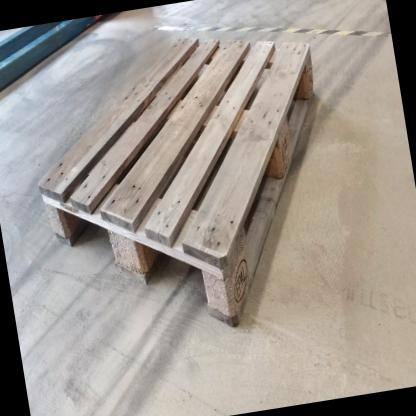BoxFace: (32, 32, 317, 335)
